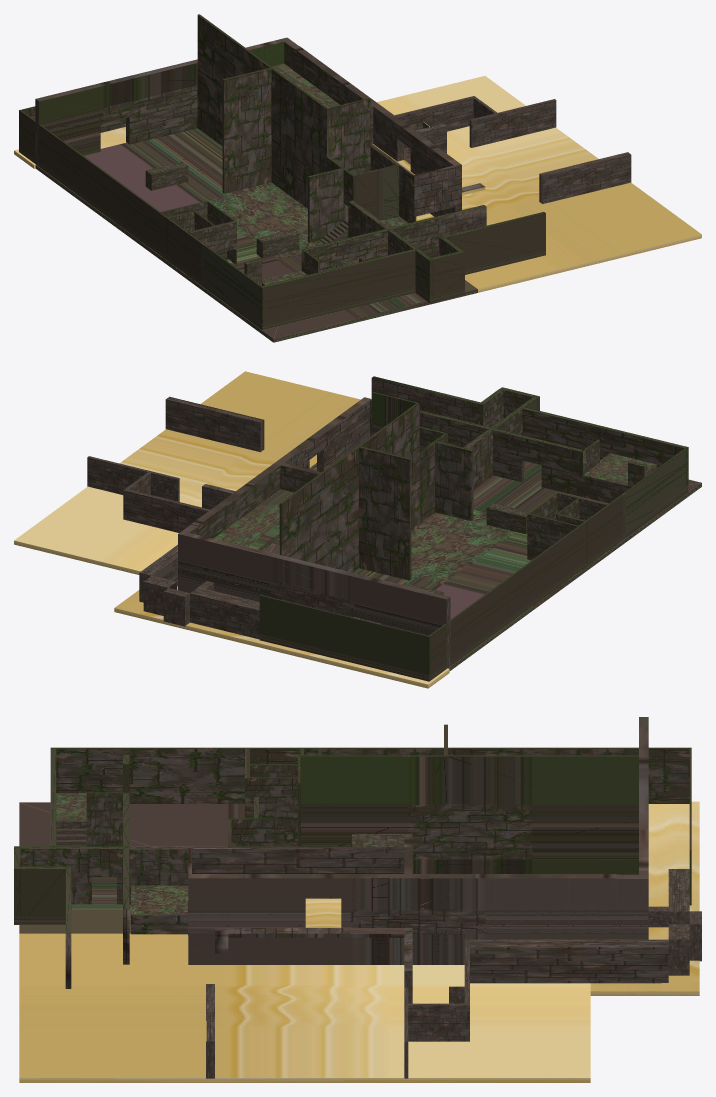
The model's file is mapa.fbx.
3 renders of one model, top to bottom at view 1: azimuth 30°, elevation 25°; view 2: azimuth 150°, elevation 25°; view 3: azimuth 270°, elevation 25°, orthographic. The views are drawn at different scales.
Parts seen in each view (by area): view 1: Door, Cube, Cube__5_, Chao praia, Chao floresta, Cube__14_, Cube__12_, Cube__13_, Cube__6_; view 2: Door, Cube, Chao praia, Cube__5_, Chao floresta, Cube__14_, Cube__6_, Cube__12_; view 3: Chao praia, Cube, Cube__5_, Door, Chao floresta, Cube__14_, Cube__6_, Cube__4_.
Boxes of the visible parts, box(x1,y1,x2,y2) form: Door: box(19, 106, 545, 329); Cube: box(35, 37, 631, 222); Cube__5_: box(197, 14, 408, 243); Chao praia: box(14, 76, 701, 292); Chao floresta: box(35, 128, 477, 342); Cube__14_: box(161, 200, 236, 264); Cube__12_: box(256, 229, 299, 258); Cube__13_: box(145, 161, 188, 190); Cube__6_: box(348, 200, 389, 237); Door: box(259, 376, 688, 681); Cube: box(87, 396, 450, 668); Chao praia: box(14, 371, 449, 688); Cube__5_: box(279, 391, 473, 580); Chao floresta: box(262, 461, 701, 670); Cube__14_: box(527, 491, 607, 560); Cube__6_: box(464, 429, 492, 489); Cube__12_: box(486, 503, 529, 534); Chao praia: box(19, 801, 699, 1082); Cube: box(188, 717, 701, 1078); Cube__5_: box(131, 724, 638, 934); Door: box(14, 747, 691, 988); Chao floresta: box(19, 802, 244, 933); Cube__14_: box(245, 748, 321, 818); Cube__6_: box(129, 846, 227, 904); Cube__4_: box(351, 833, 404, 847).
Bounding box in the file's own units: 6384 × 1661 × 6708.
4 materials, 4 textured.
